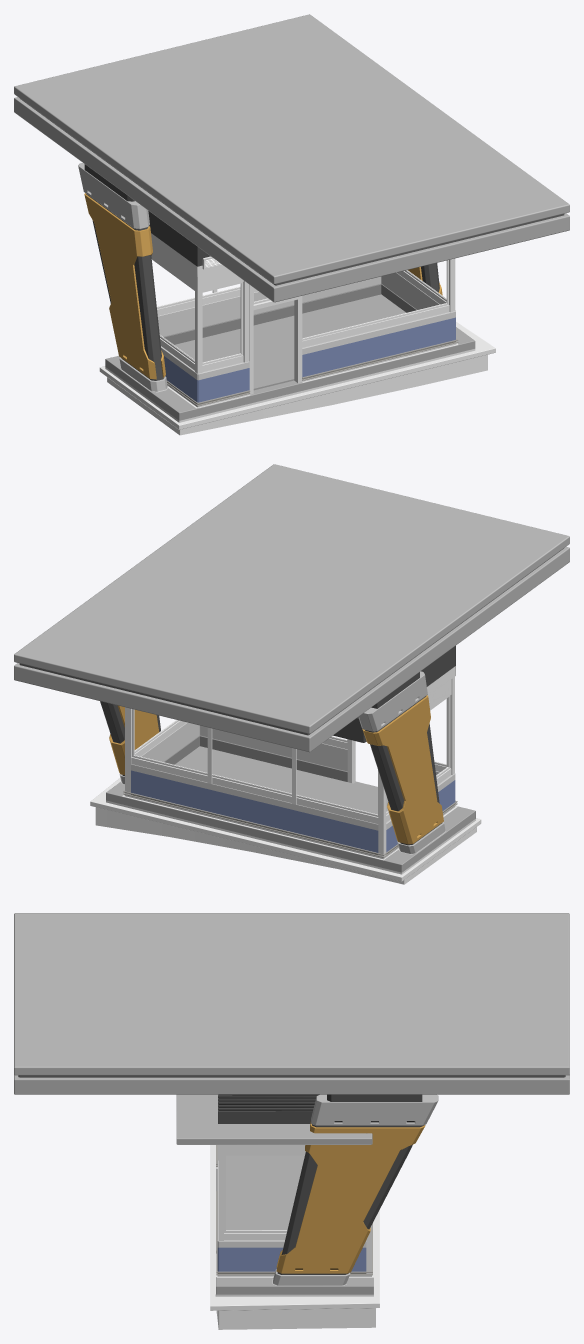
3 renders of one model, top to bottom at view 1: azimuth 30°, elevation 25°; view 2: azimuth 150°, elevation 25°; view 3: azimuth 270°, elevation 25°, orthographic. The views are drawn at different scales.
Parts seen in each view (by area): view 1: SM_H_Building_FutureTech_SentryBox_02a; view 2: SM_H_Building_FutureTech_SentryBox_02a; view 3: SM_H_Building_FutureTech_SentryBox_02a.
Part boxes in pixels (left/top/right/bottom): SM_H_Building_FutureTech_SentryBox_02a: left=14, top=14, right=569, bottom=435; SM_H_Building_FutureTech_SentryBox_02a: left=14, top=464, right=569, bottom=884; SM_H_Building_FutureTech_SentryBox_02a: left=14, top=913, right=569, bottom=1329.
Size of the model in its own units: 499 by 350 by 254.
